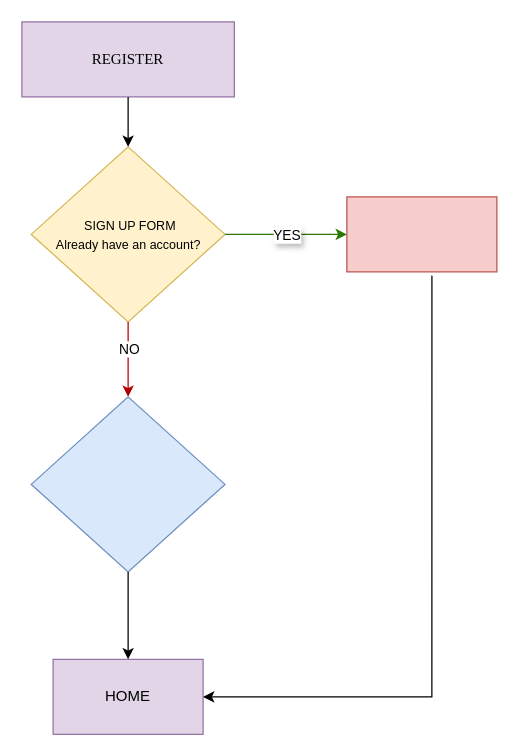
Some shapes in this 519 by 756 pixel diagram are drawn without their labels. The shapes that lost their labels are listed below. From the top down, each one's centre as x and y in pixels, then its label:
(x=421, y=234): LOG IN
(x=127, y=484): SIGN UP FORM
